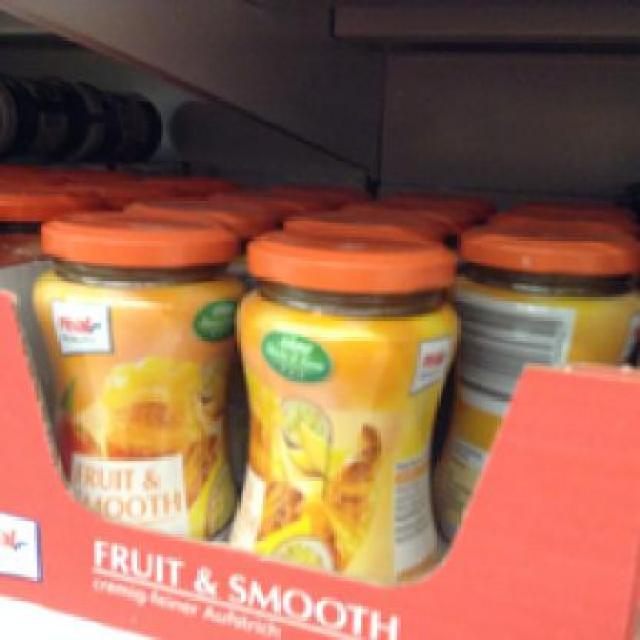Jam: (234, 226, 460, 580), (22, 209, 238, 540), (428, 220, 638, 537)
